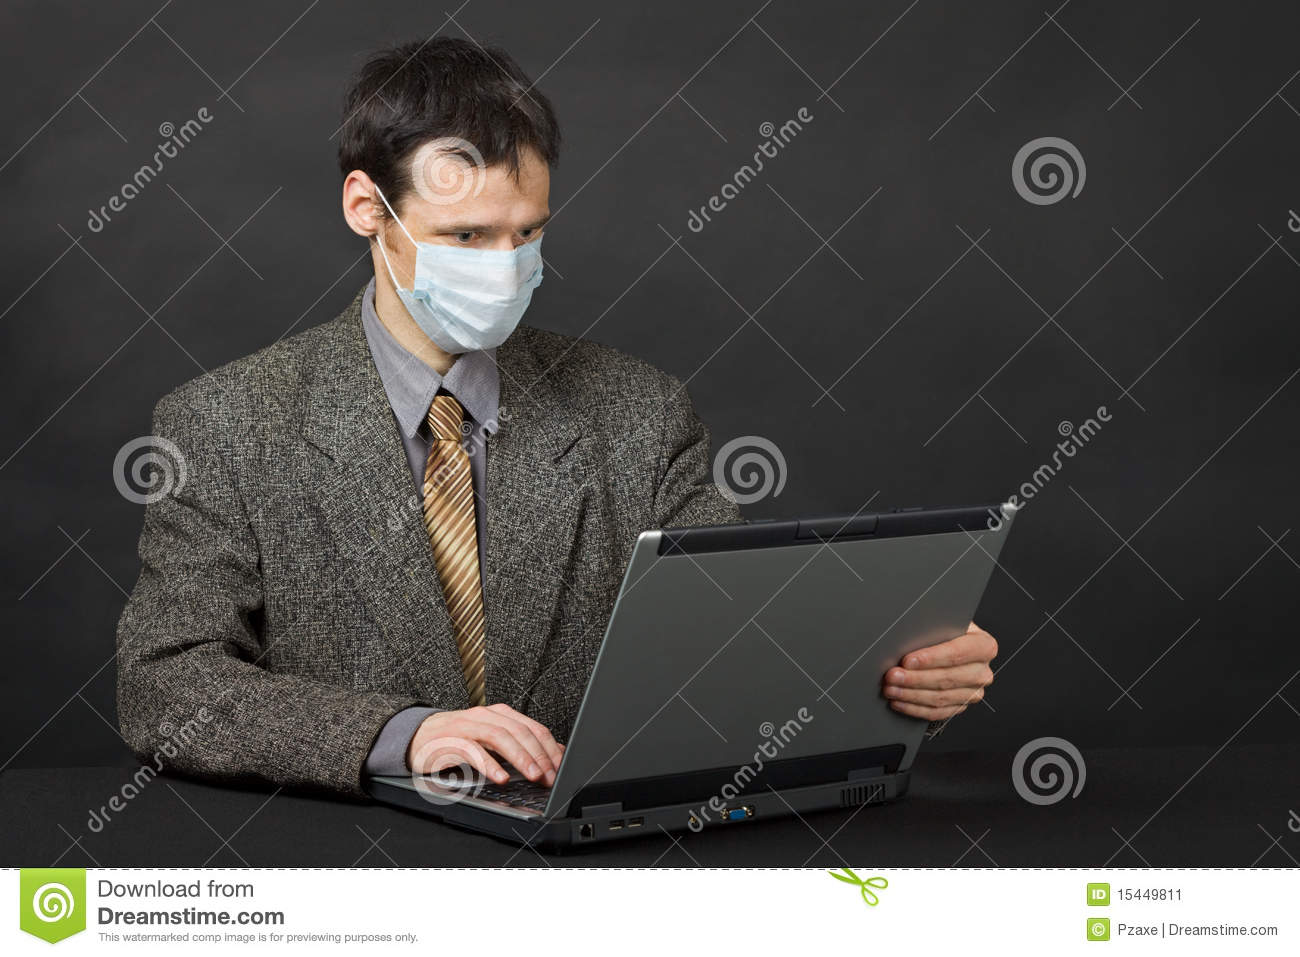mask: (398, 243, 544, 354)
